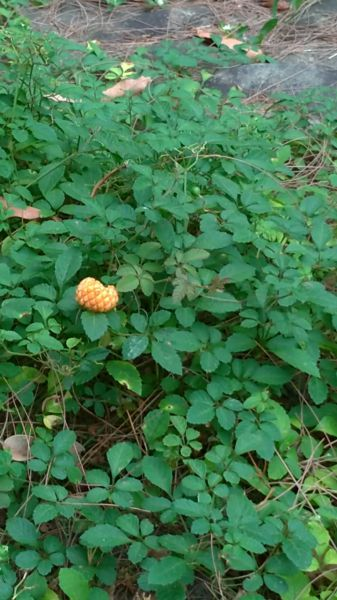eggs: (72, 274, 120, 315)
